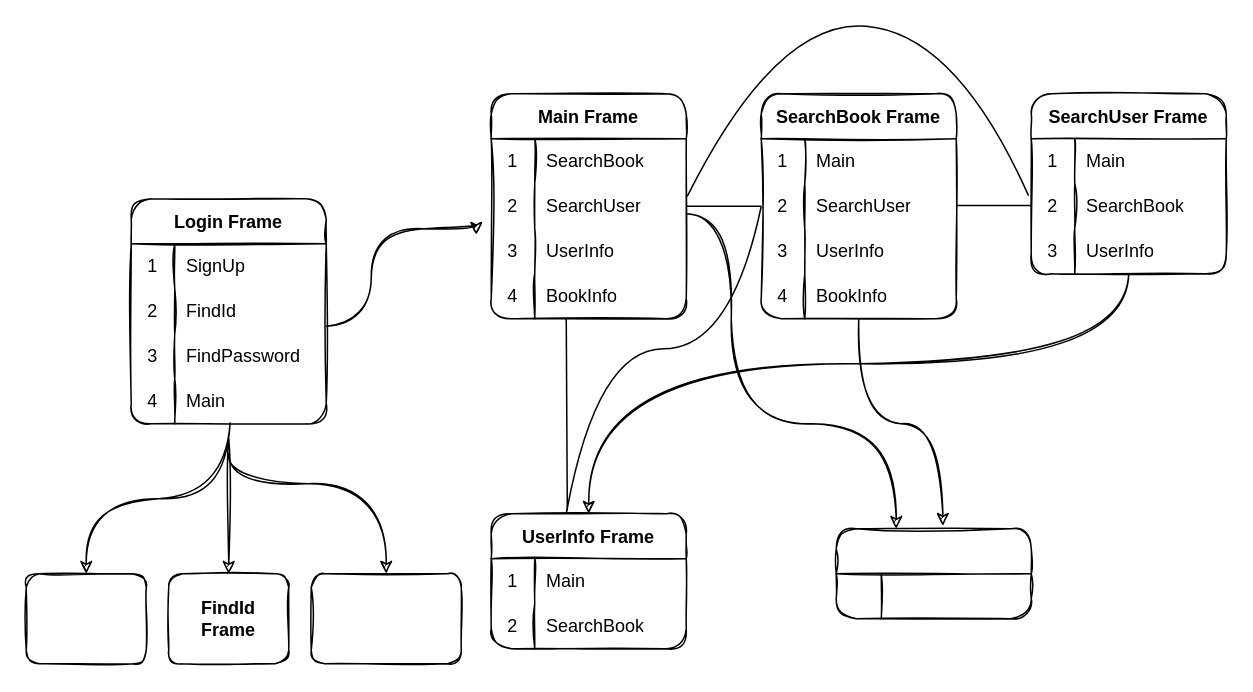
Image size: 1253x692. Some labels were removed from this diagram. Each missing label, with the centre of its shape:
BookInfo Frame: the point at 933,573
FindPassword Frame: the point at 385,618
SignUp Frame: the point at 85,618
